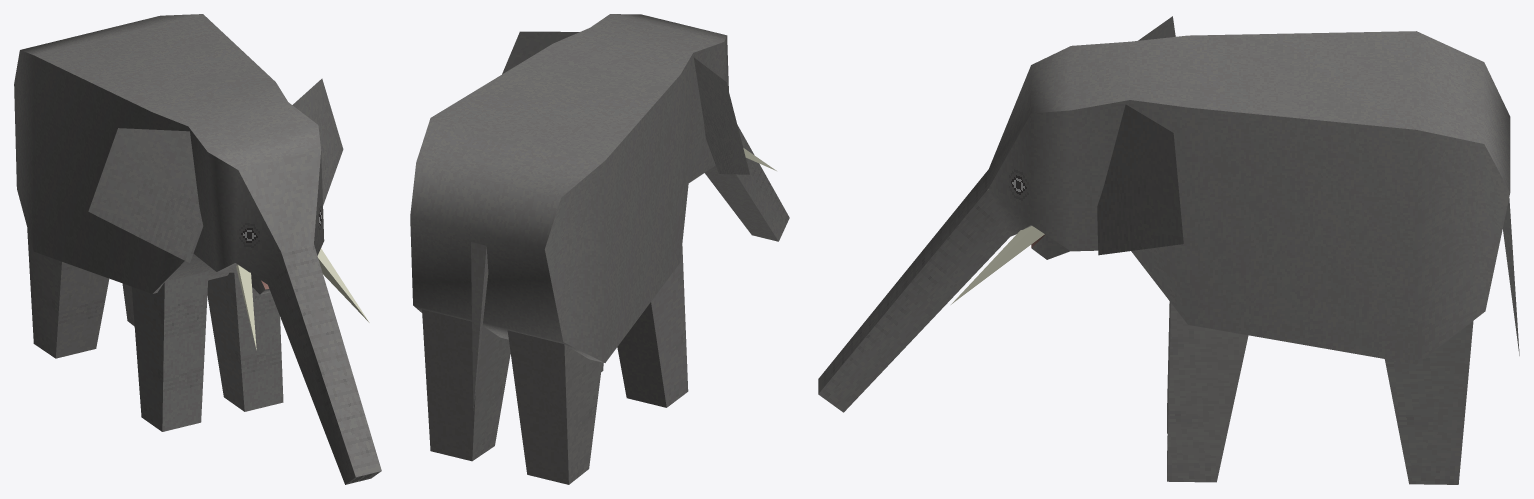
Rendered from 0200_Elephant.glb.
The picture shows the model from 3 angles, left to right: view 1: azimuth 30°, elevation 25°; view 2: azimuth 150°, elevation 25°; view 3: azimuth 270°, elevation 25°; orthographic projection. The views are drawn at different scales.
Parts seen in each view (by area): view 1: part_0; view 2: part_0; view 3: part_0.
Part boxes in pixels (x1,y1,x2,y2): part_0: (14,14,381,484); part_0: (410,14,789,484); part_0: (818,16,1519,484).
Bounding box in the file's own units: 2.89 × 3.41 × 5.77.
Materials: 1 (1 with a texture image).
